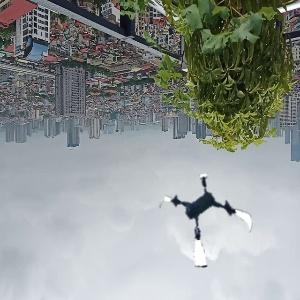drone: (161, 175, 255, 269)
